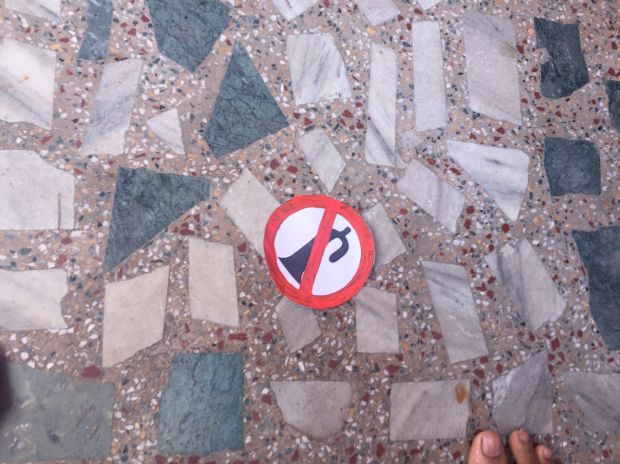no-horn: (261, 194, 376, 309)
